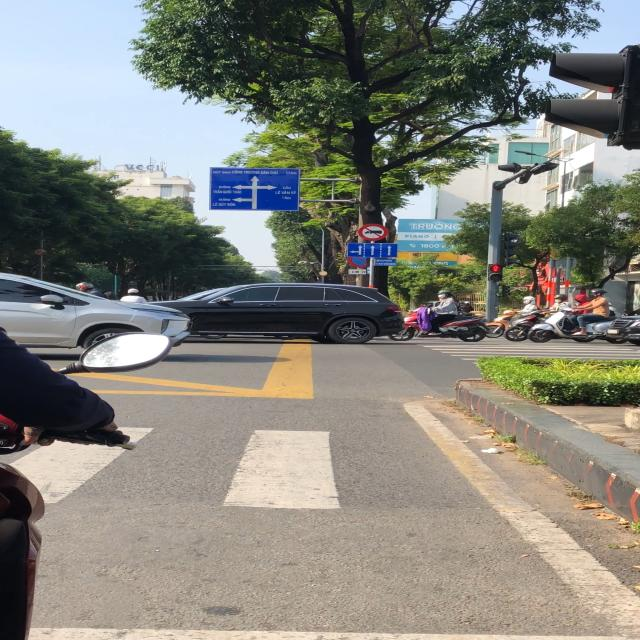Bien bao cam xe so-mi ro-mooc: (358, 222, 393, 242)
